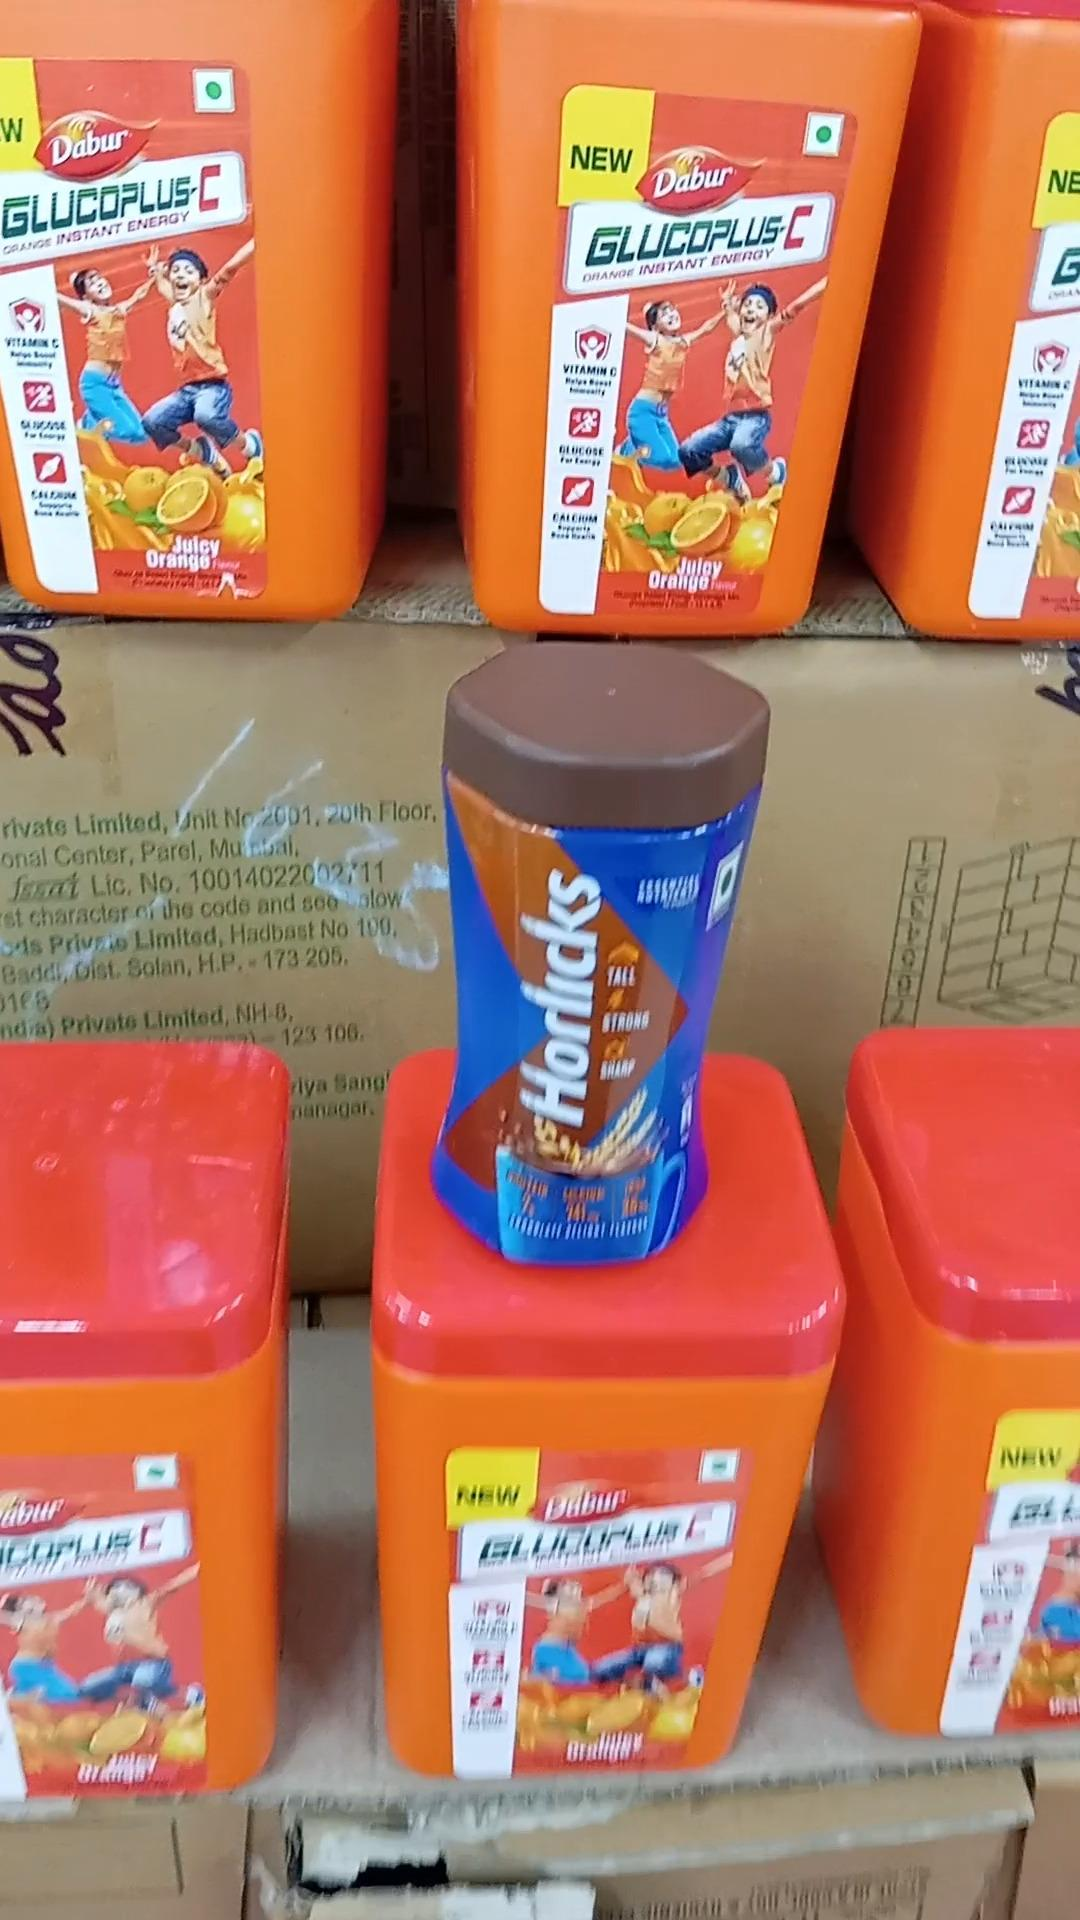HORLICK_CHOCOLATE_200_G_JAR: (435, 651, 729, 1275)
